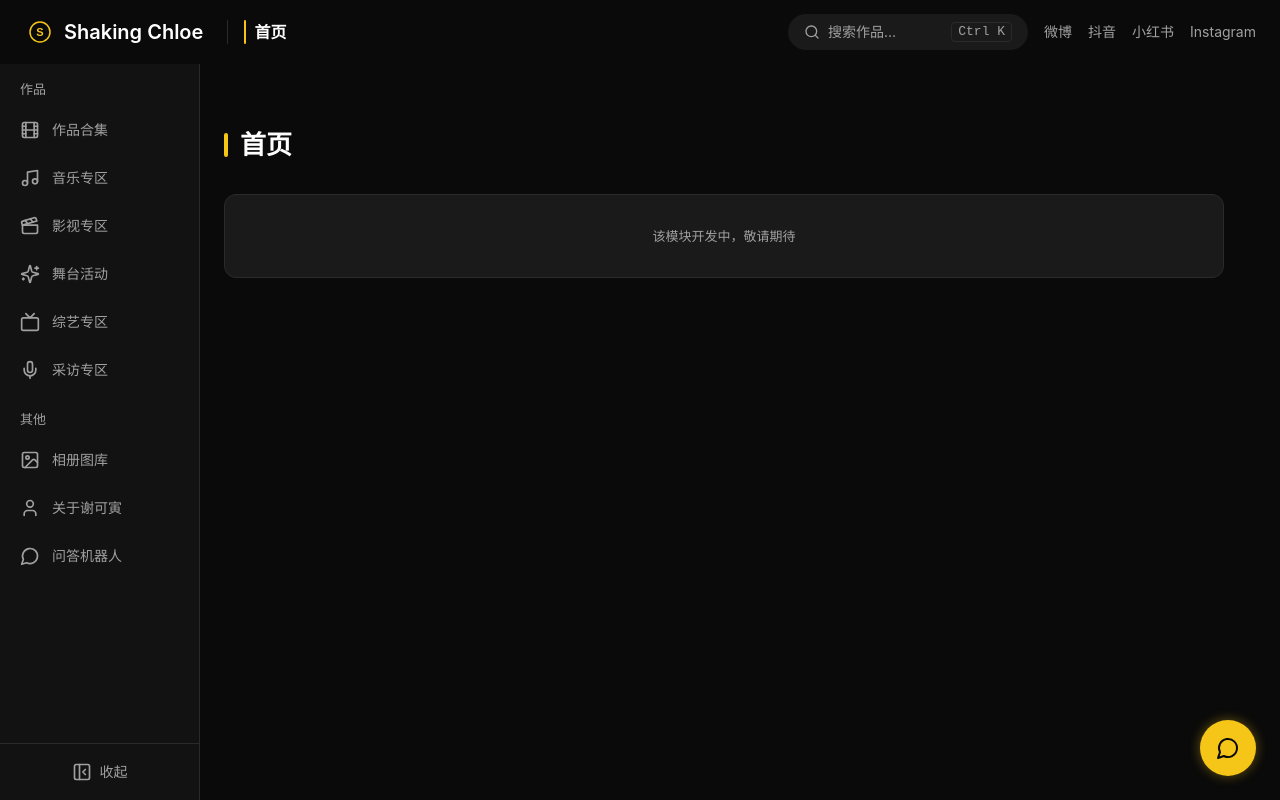
Test: 全局布局与导航 (Issue #2) › TC-03 点击作品导航跳转并高亮
The width and height of the screenshot is (1280, 800).
Check: the text "Shaking Chloe" is shown, box [64,18,203,46]
Click the link "作品合集" at [64, 130], box [20,120,108,140]
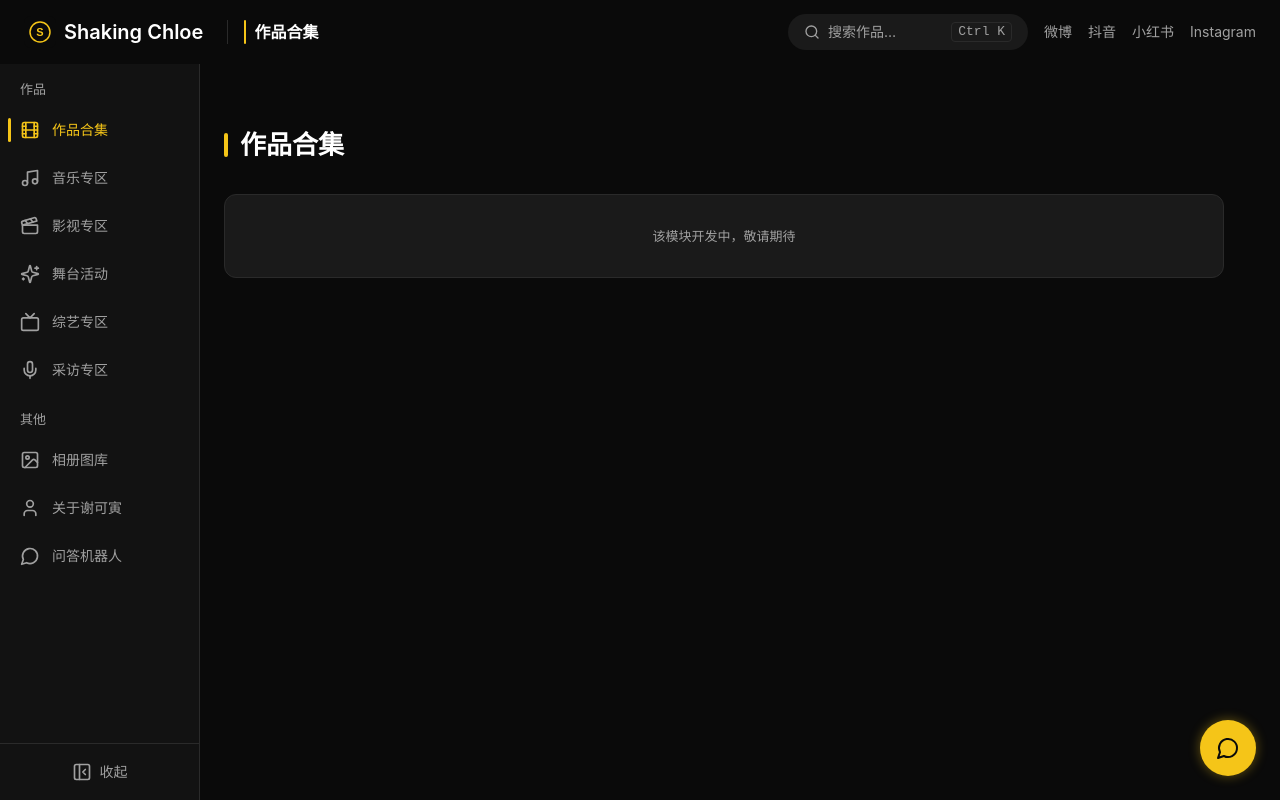
Check: the heading with test id "page-title" reads "作品合集", box [240,129,344,160]
